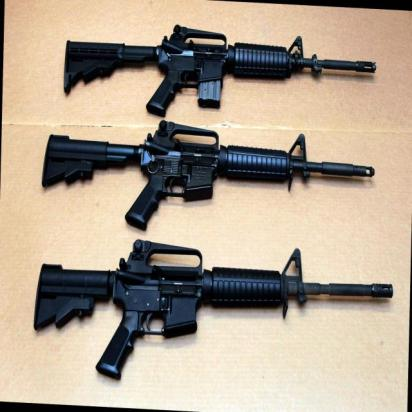Gun: (31, 228, 394, 390), (40, 115, 376, 239), (63, 15, 377, 124)
